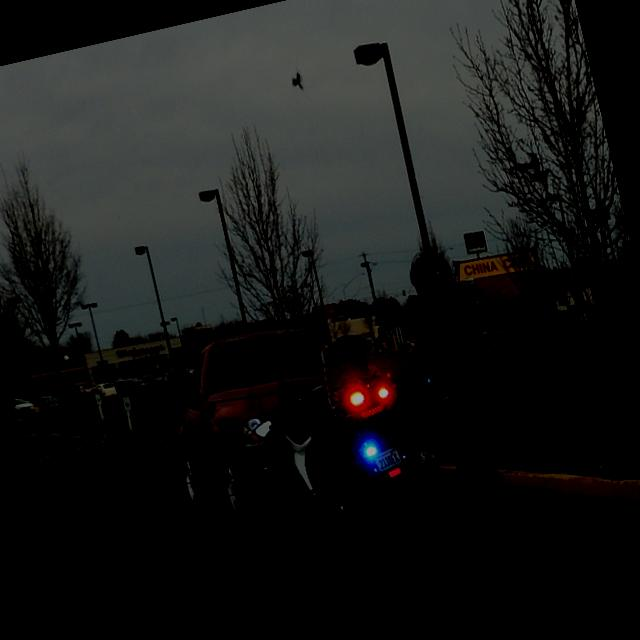Vehicle: (236, 320, 464, 584), (152, 309, 366, 536), (62, 376, 105, 406), (112, 372, 152, 398), (164, 366, 197, 386), (32, 392, 59, 413), (10, 392, 34, 415), (94, 379, 116, 398), (142, 372, 164, 388)
